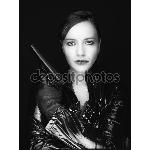Pistol: (28, 44, 66, 88)
